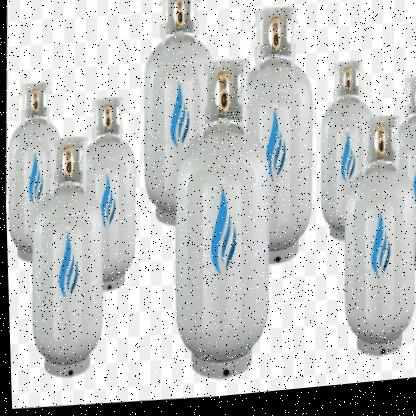gas-tank: (160, 44, 282, 398), (234, 0, 326, 300), (20, 128, 112, 391), (135, 0, 225, 252), (331, 107, 415, 372), (69, 82, 144, 318), (313, 47, 382, 245), (2, 80, 70, 272), (387, 65, 415, 295)
